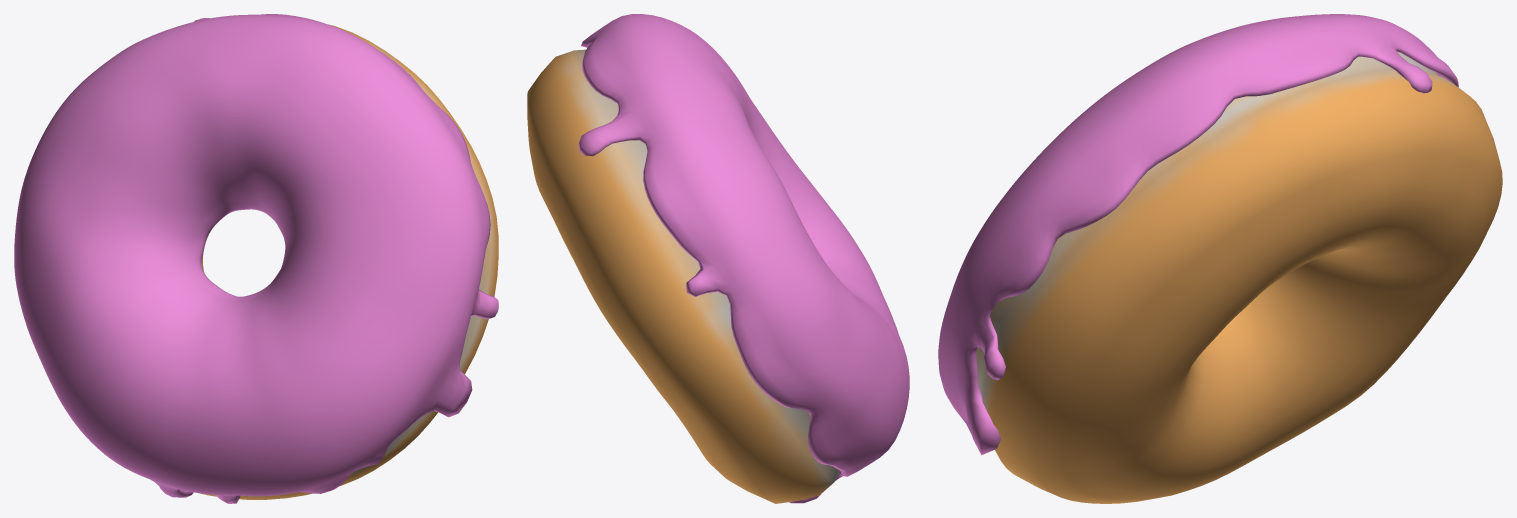
Rendered from Donut_clement_test.glb.
3 renders of one model, left to right at view 1: azimuth 30°, elevation 25°; view 2: azimuth 150°, elevation 25°; view 3: azimuth 270°, elevation 25°, orthographic. The views are drawn at different scales.
Visible parts, largest first — view 1: Icing, Donut; view 2: Icing, Donut; view 3: Donut, Icing.
Part boxes in pixels (x1,y1,x2,y2): Icing: (14, 14, 498, 503); Donut: (198, 24, 498, 499); Icing: (578, 14, 909, 503); Donut: (527, 49, 840, 503); Donut: (976, 52, 1502, 503); Icing: (938, 14, 1458, 455).
Size of the model in its own units: 0.0817 by 0.0906 by 0.0899.
Materials: 2 (1 with a texture image).
